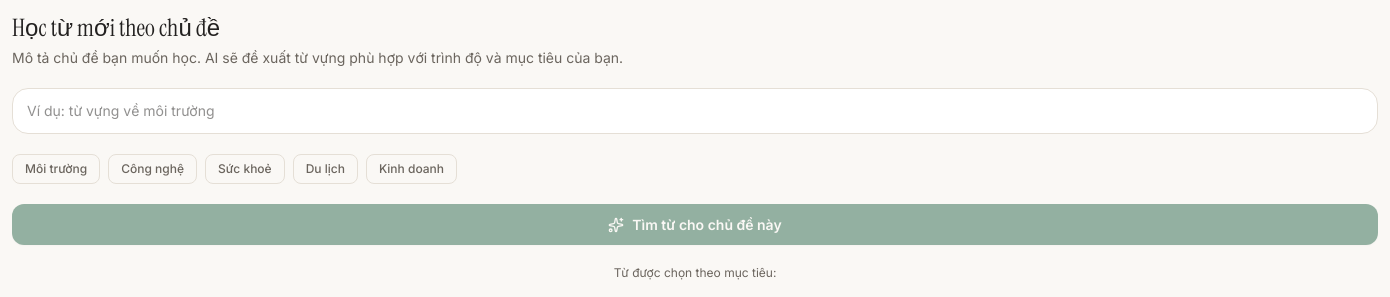
Scenario: TopicSuggest — idle › an example chip fills the input and enables the CTA
The image size is (1390, 297).
Click the button "Môi trường" at (56, 169), box top-left (12, 154), bottom-right (100, 184)
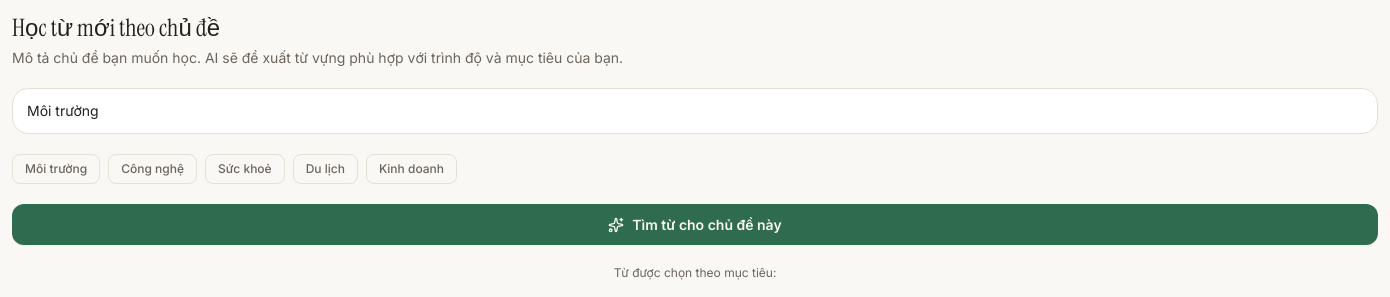
Expected: the field named "Chủ đề bạn muốn học" holds "Môi trường", top-left (12, 88), bottom-right (1378, 134)
Expected: the button "Tìm từ cho chủ đề này" is enabled, top-left (12, 204), bottom-right (1378, 245)
